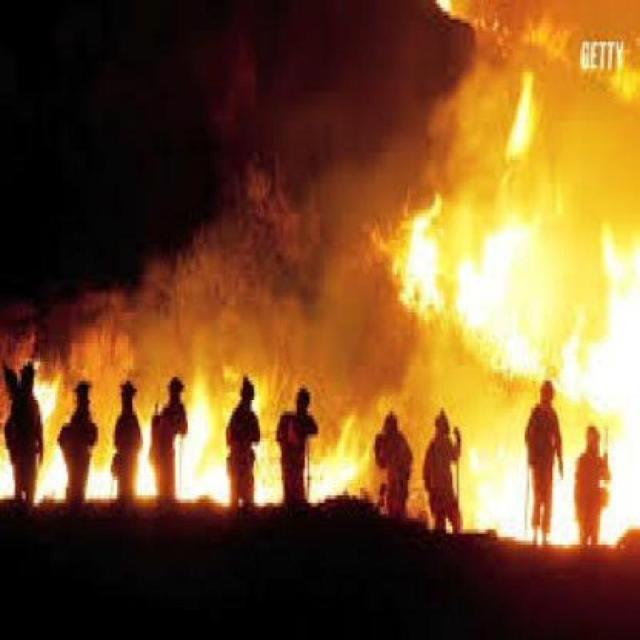Fire: (3, 322, 640, 540), (400, 60, 640, 315)
